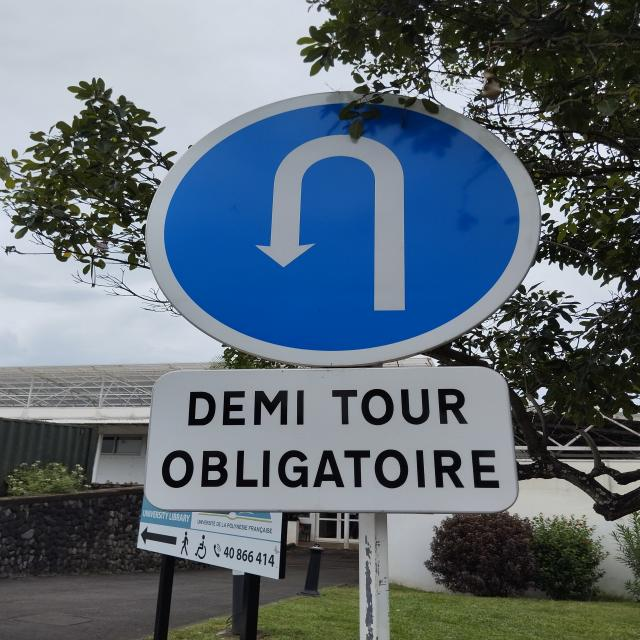Demi-Tour-Obligatoire: (146, 88, 541, 371)
